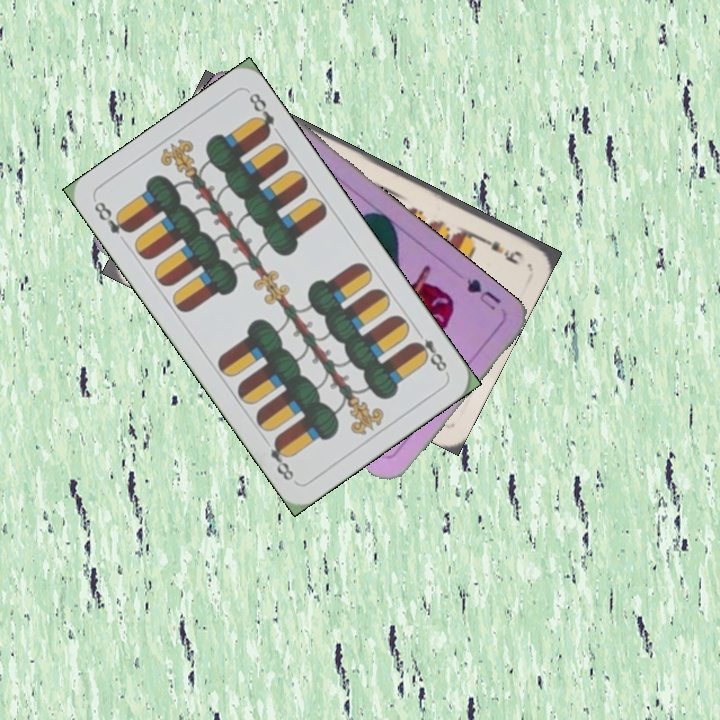E8: (409, 325, 450, 375), (90, 197, 135, 237)
E9: (473, 232, 528, 268)
GU: (462, 274, 504, 313)
